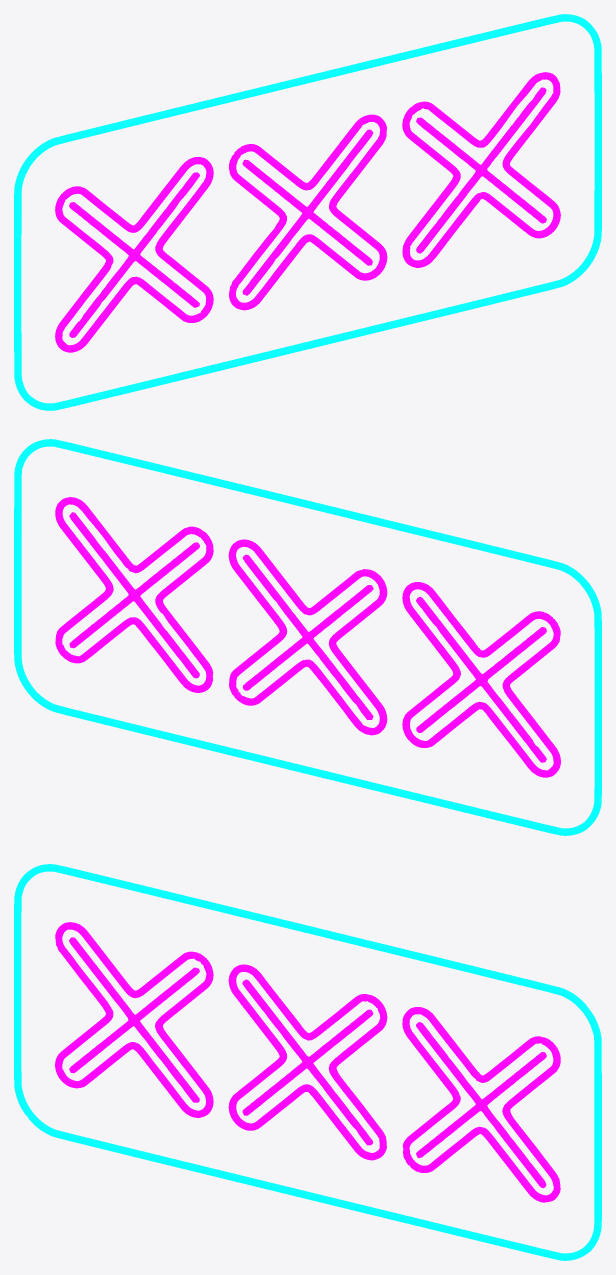
File: neon_xxx.glb
3 renders of one model, top to bottom at view 1: azimuth 30°, elevation 25°; view 2: azimuth 150°, elevation 25°; view 3: azimuth 330°, elevation 25°, orthographic.
Parts seen in each view (by area): view 1: xxx_board; view 2: xxx_board; view 3: xxx_board.
Part boxes in pixels (x1=…): xxx_board: x1=14, y1=14, x2=601, y2=410; xxx_board: x1=14, y1=439, x2=601, y2=835; xxx_board: x1=14, y1=864, x2=601, y2=1260.
Bounding box in the file's own units: 3 × 1.33 × 0.0339.
Materials: 2 (2 with a texture image).
